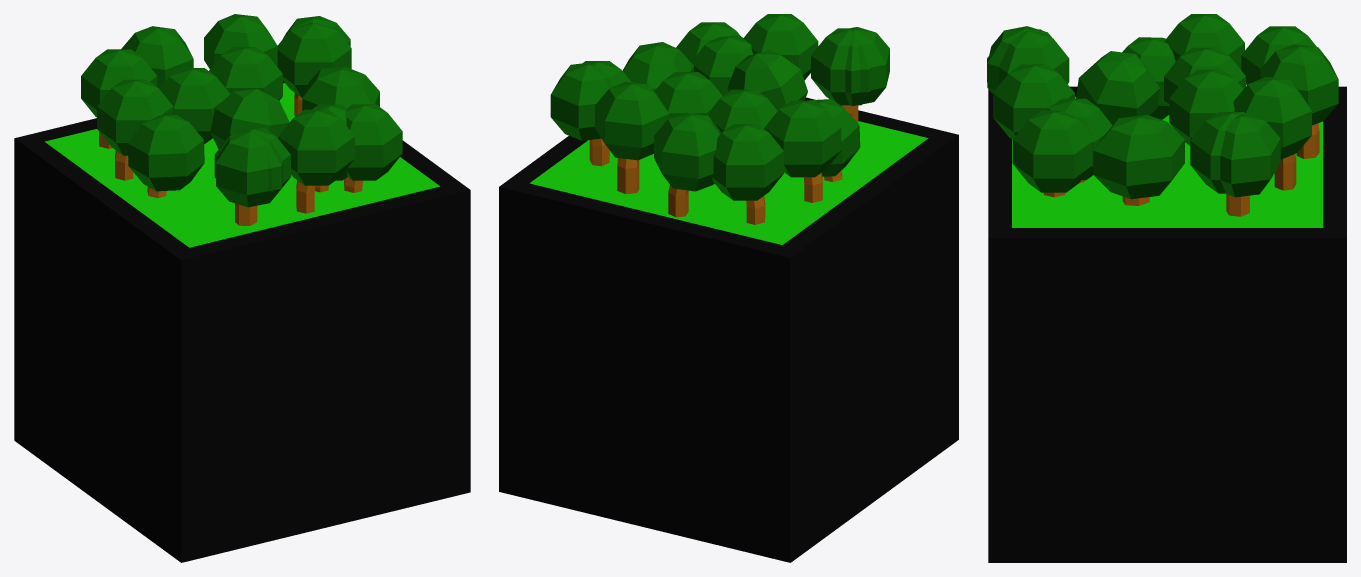
Rendered from forest.obj.
The picture shows the model from 3 angles, left to right: view 1: azimuth 30°, elevation 25°; view 2: azimuth 150°, elevation 25°; view 3: azimuth 270°, elevation 25°; orthographic projection. The views are drawn at different scales.
Visible parts, largest first — view 1: Cube_Cube.001, Sphere.009_Sphere.016, Sphere.012_Sphere.018, Sphere.011_Sphere, Sphere.021_Sphere.030, Sphere.007_Sphere.014, Sphere.018_Sphere.027, Sphere.008_Sphere.015, Sphere.002_Sphere.001, Sphere.003_Sphere.002, Sphere.006_Sphere.007, Sphere.016_Sphere.025 (+3 smaller); view 2: Cube_Cube.001, Sphere.006_Sphere.007, Sphere.004_Sphere.003, Sphere.007_Sphere.014, Sphere.005_Sphere.004, Sphere.020_Sphere.029, Sphere.002_Sphere.001, Sphere.010_Sphere.017, Sphere.012_Sphere.018, Sphere.011_Sphere, Sphere.003_Sphere.002, Sphere.016_Sphere.025 (+7 smaller); view 3: Cube_Cube.001, Sphere.016_Sphere.025, Sphere.018_Sphere.027, Sphere.002_Sphere.001, Sphere.020_Sphere.029, Sphere.004_Sphere.003, Sphere.012_Sphere.018, Sphere.005_Sphere.004, Sphere.003_Sphere.002, Sphere.007_Sphere.014, Sphere.010_Sphere.017, Sphere.021_Sphere.030 (+8 smaller).
Boxes of the visible parts, x1,y1,x2,y2 form: Cube_Cube.001: [14, 81, 470, 562]; Sphere.009_Sphere.016: [127, 114, 204, 191]; Sphere.012_Sphere.018: [278, 109, 354, 185]; Sphere.011_Sphere: [216, 131, 282, 207]; Sphere.021_Sphere.030: [277, 22, 351, 97]; Sphere.007_Sphere.014: [97, 79, 173, 155]; Sphere.018_Sphere.027: [345, 104, 402, 180]; Sphere.008_Sphere.015: [159, 68, 229, 143]; Sphere.002_Sphere.001: [210, 89, 289, 149]; Sphere.003_Sphere.002: [209, 47, 282, 100]; Sphere.006_Sphere.007: [81, 49, 157, 117]; Sphere.016_Sphere.025: [302, 66, 379, 110]; Cube_Cube.001: [499, 97, 958, 562]; Sphere.006_Sphere.007: [712, 124, 783, 200]; Sphere.004_Sphere.003: [595, 81, 669, 160]; Sphere.007_Sphere.014: [764, 100, 841, 177]; Sphere.005_Sphere.004: [654, 112, 720, 191]; Sphere.020_Sphere.029: [550, 63, 609, 140]; Sphere.002_Sphere.001: [727, 50, 807, 110]; Sphere.010_Sphere.017: [811, 28, 871, 105]; Sphere.012_Sphere.018: [743, 14, 818, 80]; Sphere.011_Sphere: [845, 27, 889, 106]; Sphere.003_Sphere.002: [654, 72, 722, 118]; Sphere.016_Sphere.025: [622, 42, 693, 90]; Cube_Cube.001: [988, 86, 1346, 562]; Sphere.016_Sphere.025: [1093, 114, 1184, 199]; Sphere.018_Sphere.027: [1012, 110, 1092, 192]; Sphere.002_Sphere.001: [1076, 51, 1160, 124]; Sphere.020_Sphere.029: [1220, 113, 1280, 197]; Sphere.004_Sphere.003: [1233, 76, 1311, 159]; Sphere.012_Sphere.018: [993, 64, 1074, 139]; Sphere.005_Sphere.004: [1260, 44, 1338, 125]; Sphere.003_Sphere.002: [1169, 69, 1243, 145]; Sphere.007_Sphere.014: [1164, 14, 1244, 69]; Sphere.010_Sphere.017: [987, 29, 1069, 84]; Sphere.021_Sphere.030: [1190, 112, 1245, 193].
Bounding box in the file's own units: 2 × 2.66 × 2.01.
